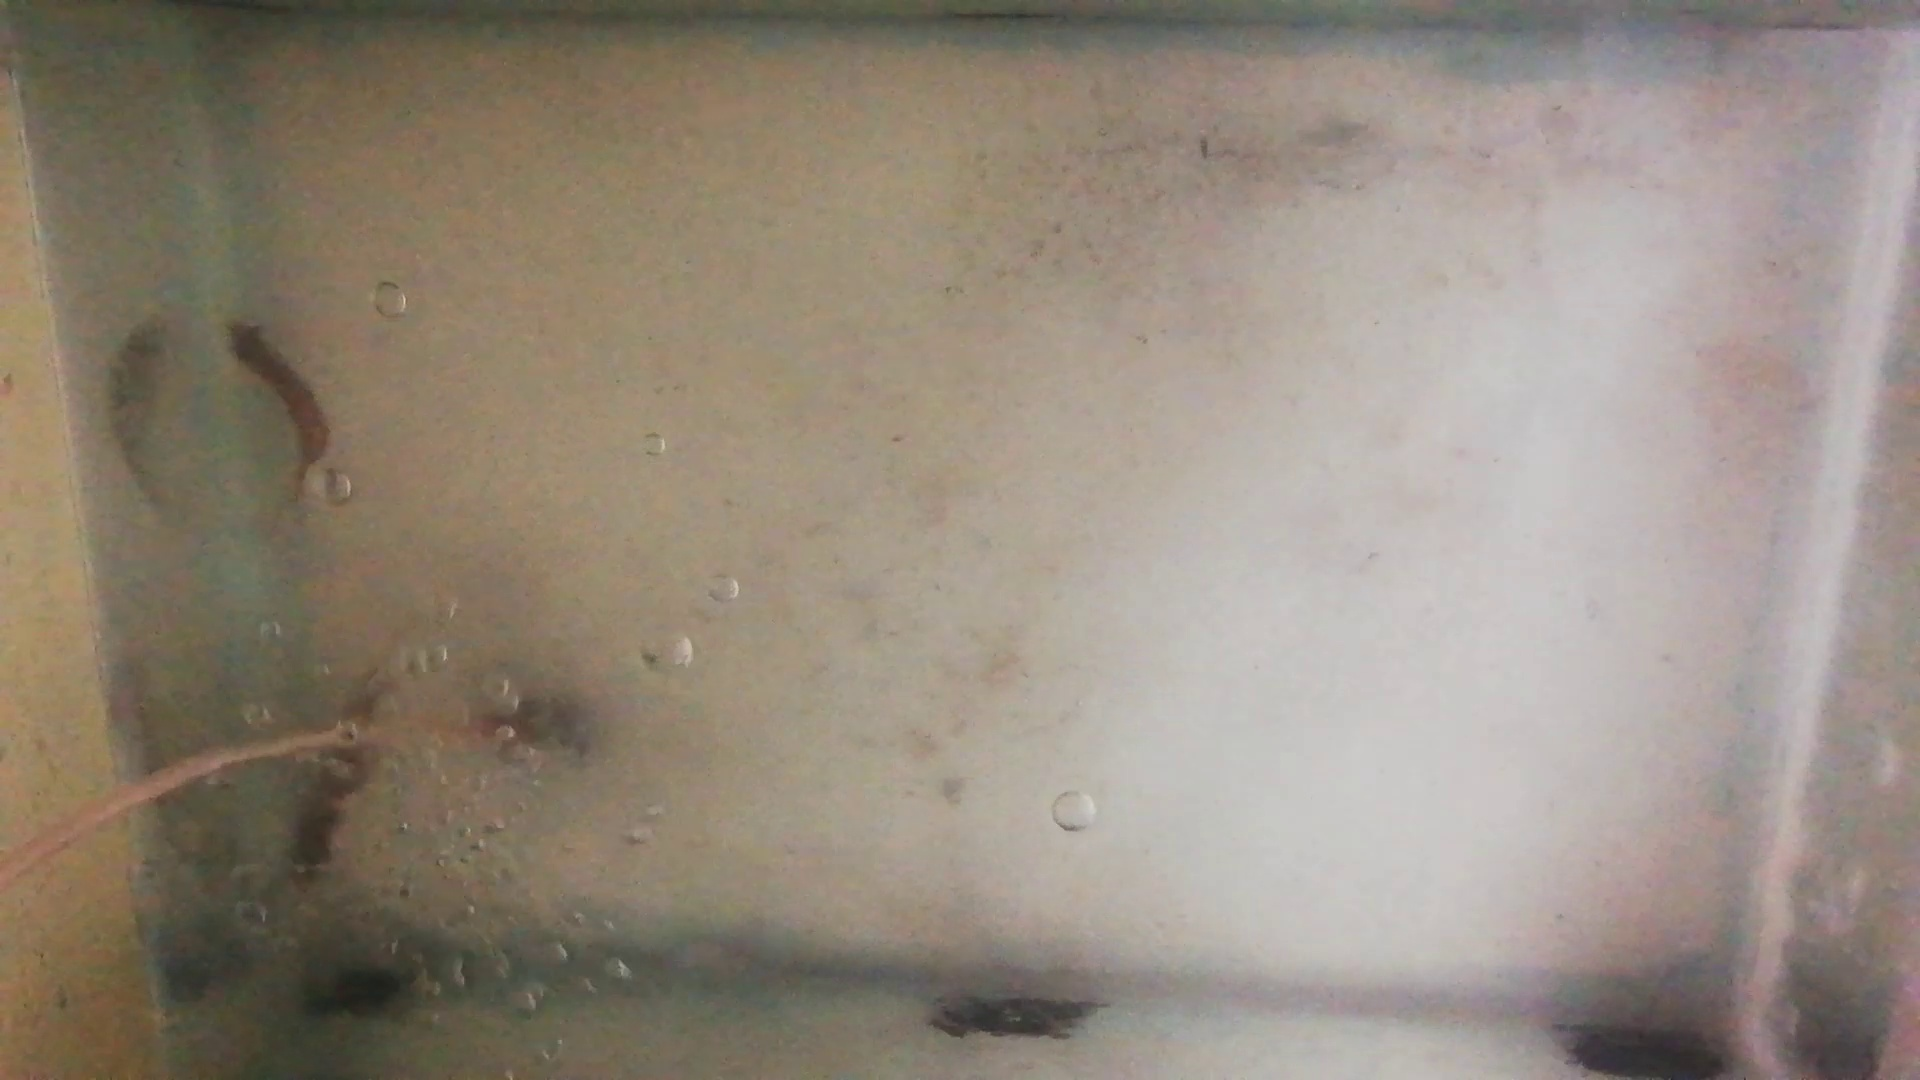fish: (224, 316, 327, 479), (293, 698, 375, 872)
